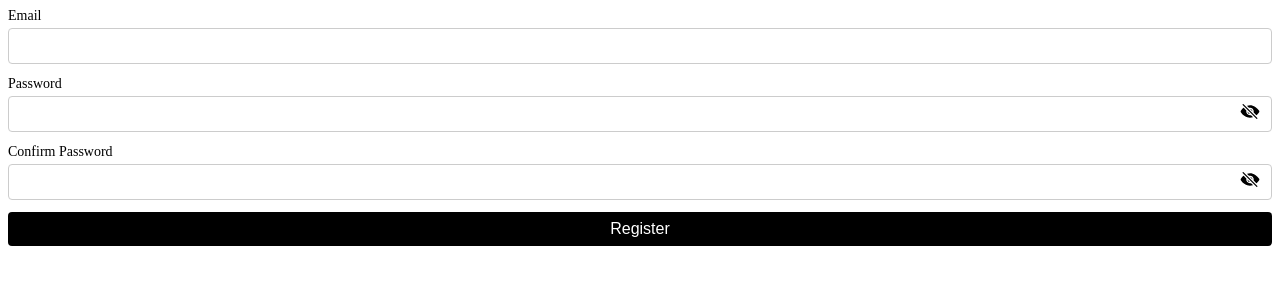
Scenario: RegisterForm › shows a fallback message when register fails without a server message
The image size is (1280, 292).
Type "reader@example.com" into the field labelled "Email" at (640, 46), box [8, 28, 1272, 64]
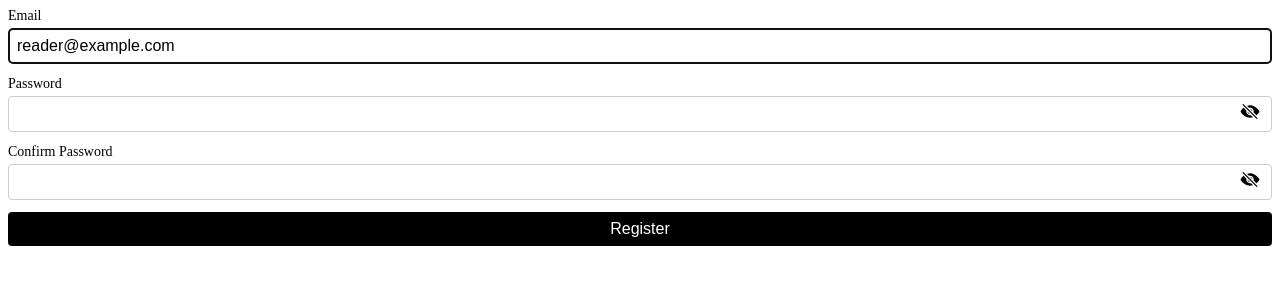
Type "password123" into the password field labelled "Password" at (640, 114), box [8, 96, 1272, 132]
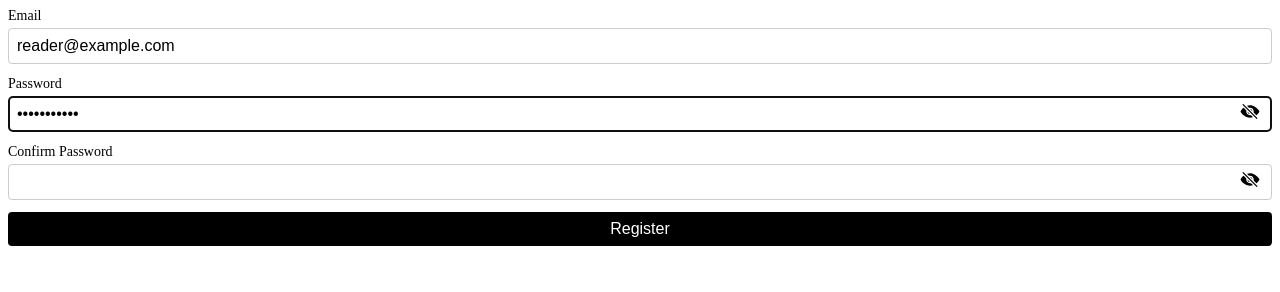
Type "password123" into the password field labelled "Confirm Password" at (640, 182), box [8, 164, 1272, 200]
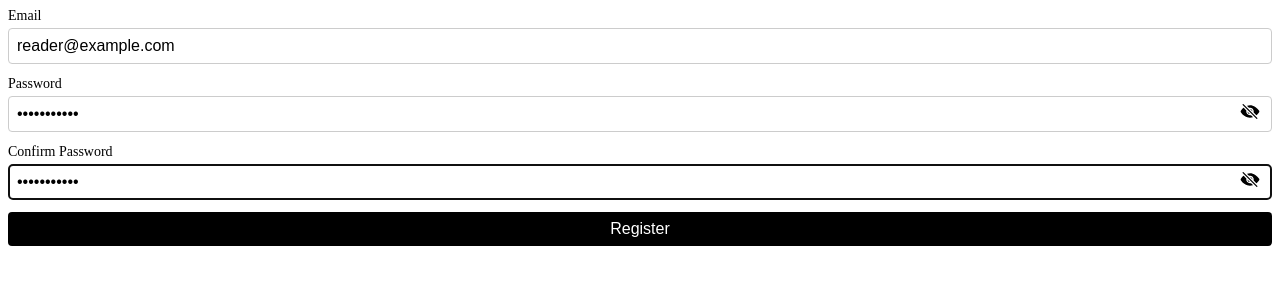
Click the button "Register" at (640, 229), box [8, 212, 1272, 246]
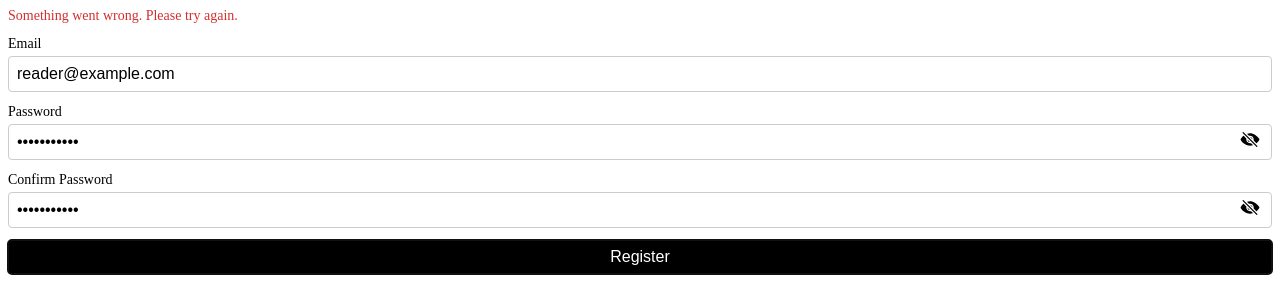
Expected: the text "Something went wrong. Please try again." is shown, [8, 8, 238, 23]
